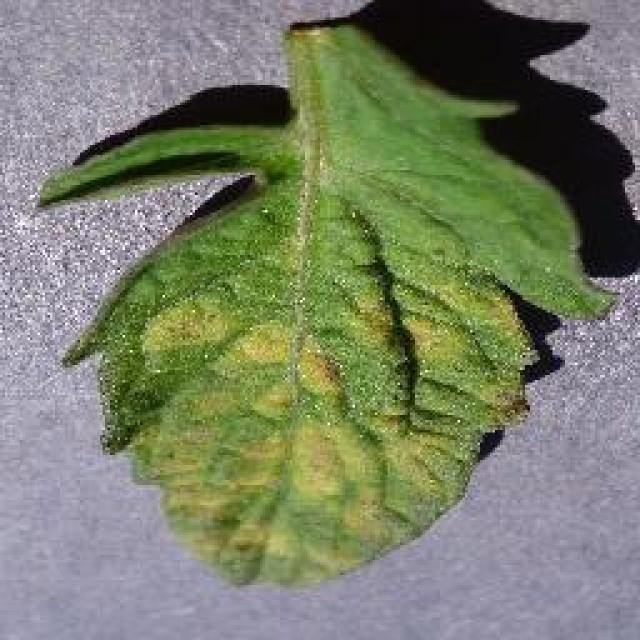Tomato___Leaf_Mold: (40, 25, 612, 582)
